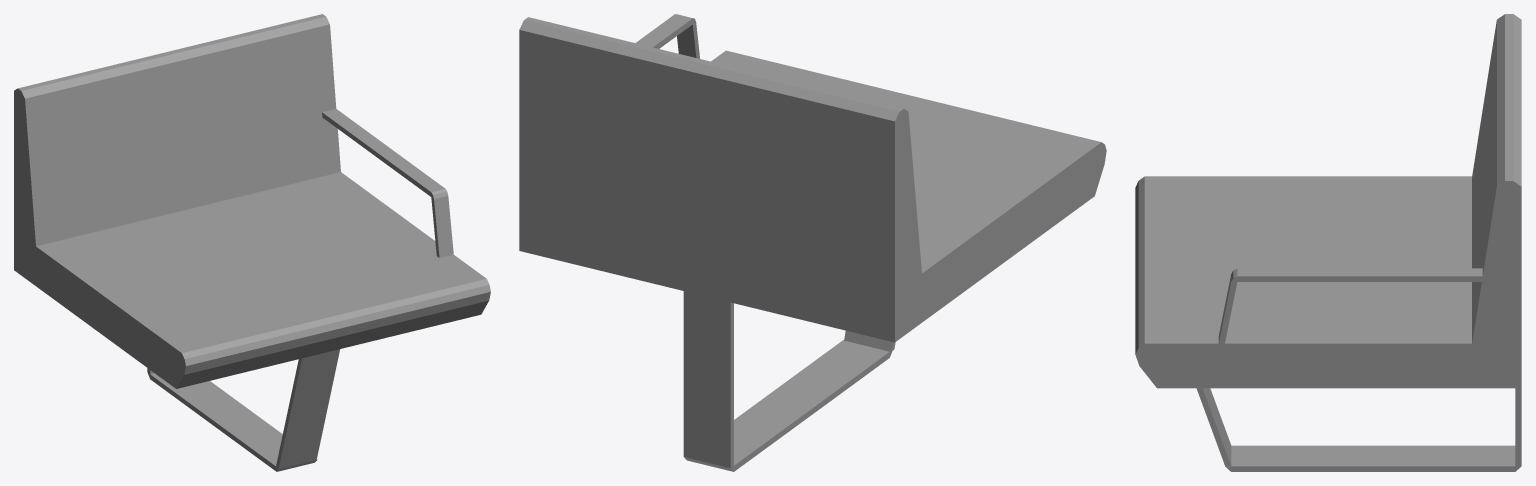
Rendered from nyc_subway_bench_3a.obj.
The picture shows the model from 3 angles, left to right: view 1: azimuth 30°, elevation 25°; view 2: azimuth 150°, elevation 25°; view 3: azimuth 270°, elevation 25°; orthographic projection. The views are drawn at different scales.
Parts seen in each view (by area): view 1: cube; view 2: cube; view 3: cube.
Part boxes in pixels (<box>): cube: <box>14,14,490,471</box>; cube: <box>519,14,1106,471</box>; cube: <box>1135,14,1521,471</box>.
Size of the model in its own units: 1 by 1.02 by 0.9766.
Materials: 1 (1 with a texture image).
